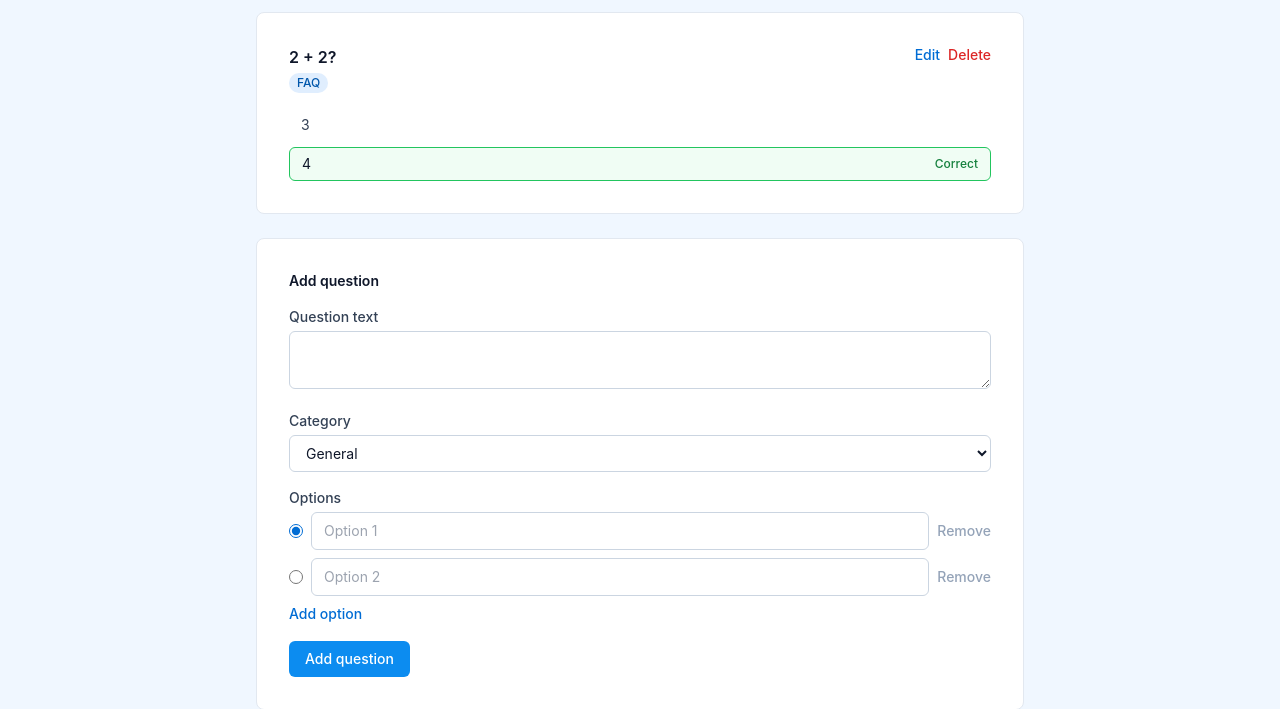
Scenario: AdminQuestions › should_add_question_with_dynamic_options_and_refresh_list
The image size is (1280, 709).
(page scrolled)
Step 1. Type "Largest ocean?" into the text box labelled "Question text" → (640, 360), box [289,331,991,389]
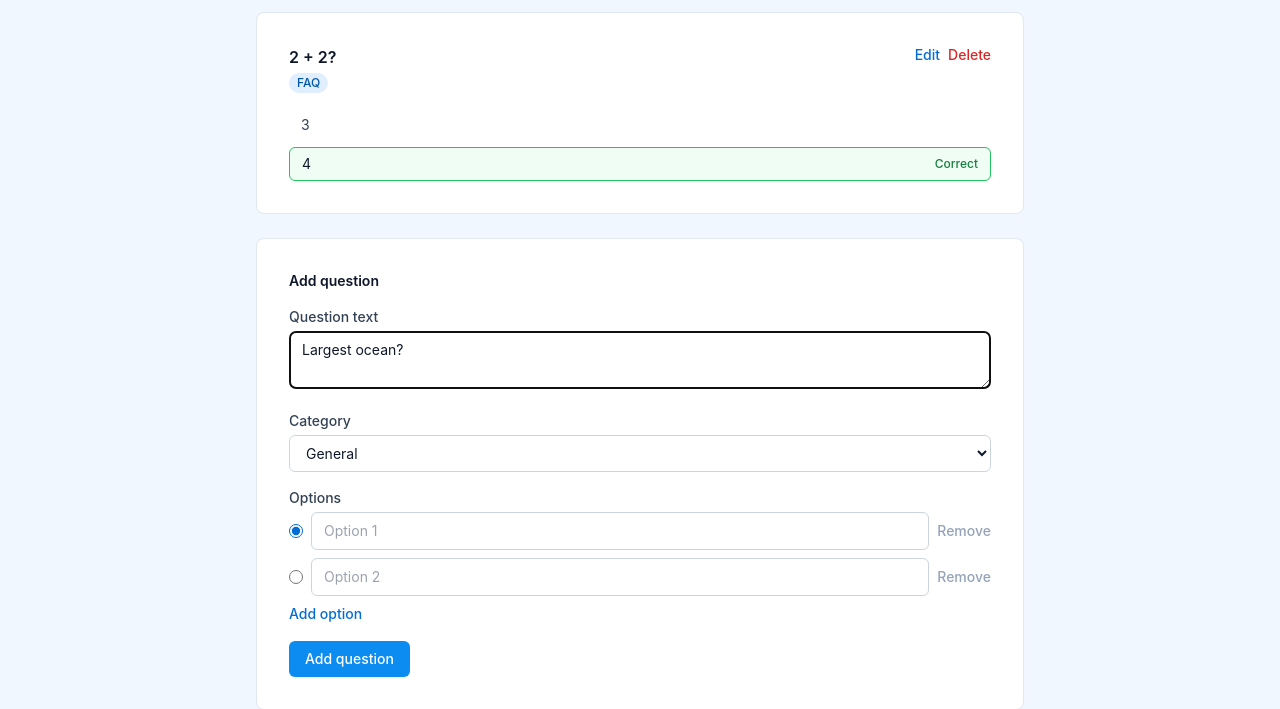
Step 2. Type "Pacific" into the field with placeholder "Option 1" → (620, 531), box [311,512,929,550]
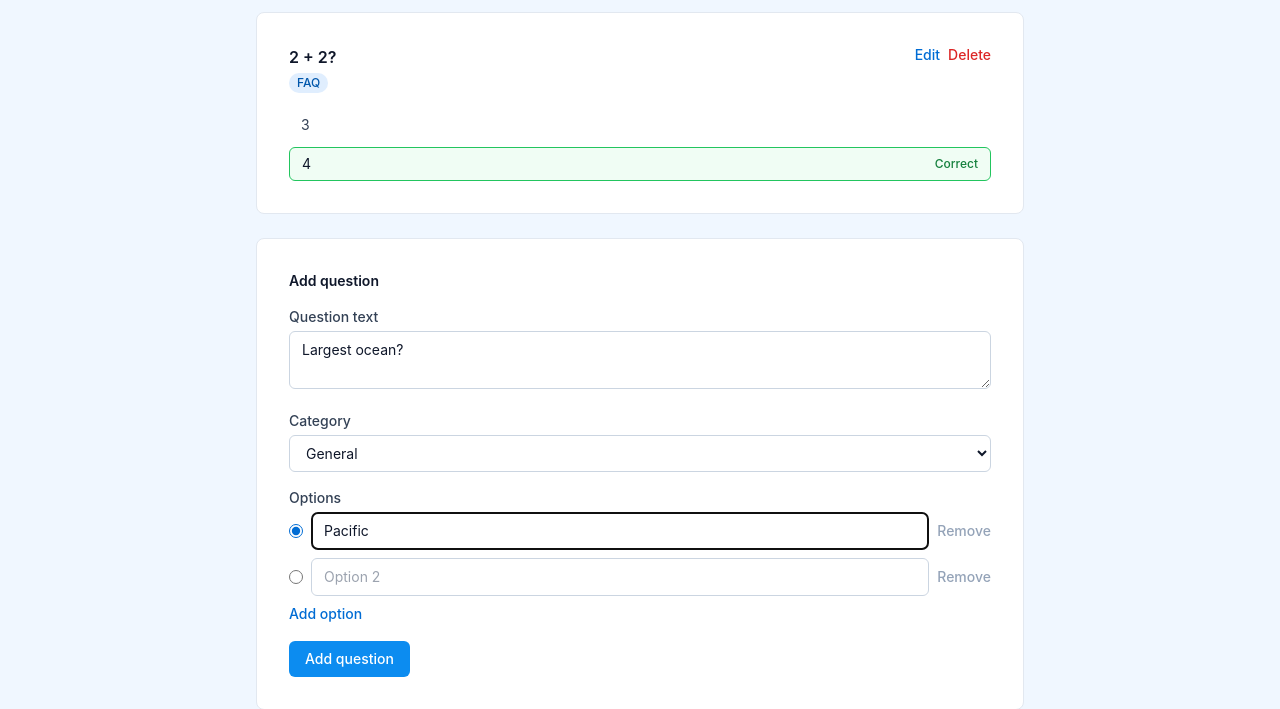
Step 3. Type "Atlantic" into the field with placeholder "Option 2" → (620, 577), box [311,558,929,596]
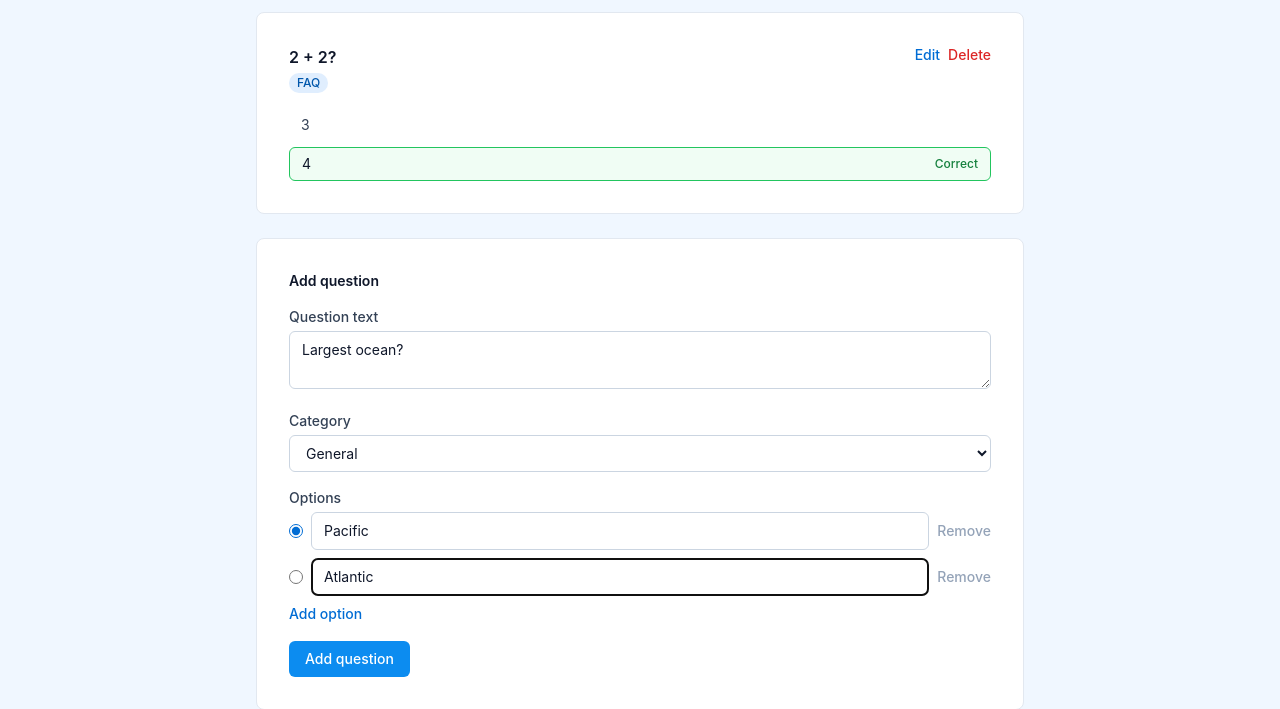
Step 4. Click the radio button named "Correct option 1" → click(296, 531), box [289,523,303,539]
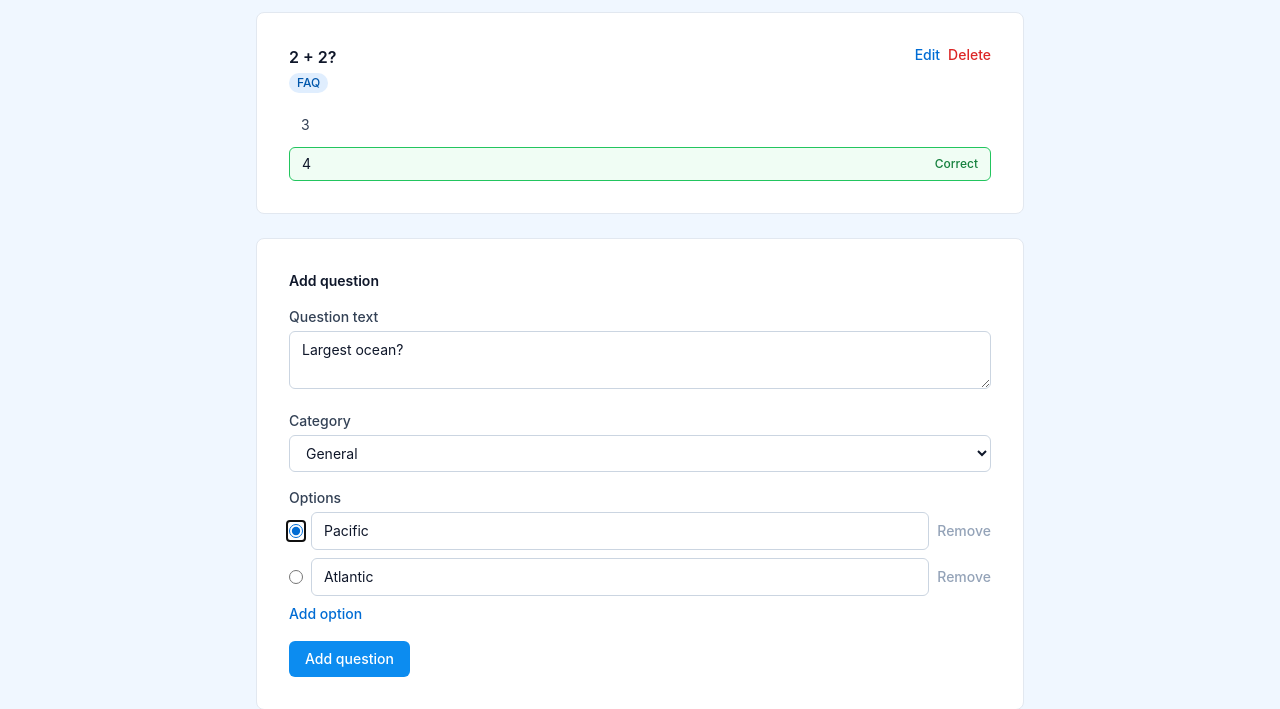
Step 5. Click the button "Add question" → click(349, 659), box [289,641,410,677]
(page scrolled)
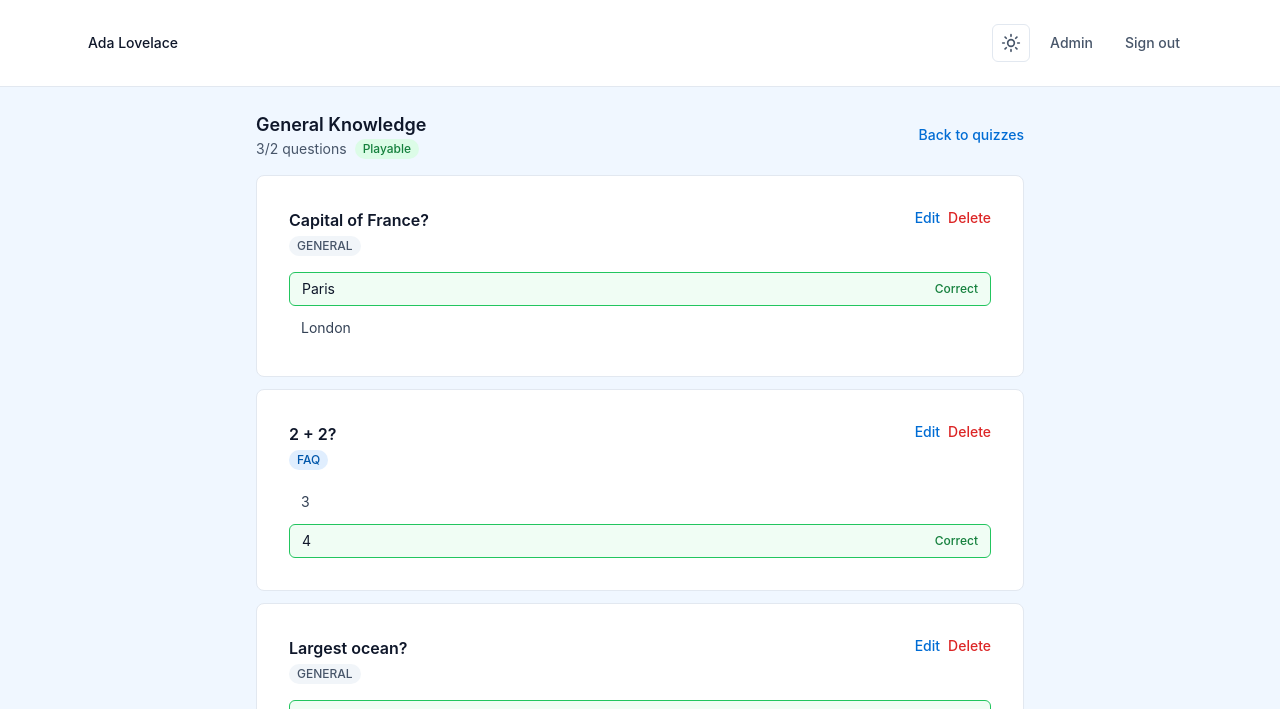
Expected: the text "Pacific" does not show "Correct"
Expected: the text "Largest ocean?" is shown, [289,636,408,660]
Expected: the text "3/2 questions" is shown, [256,139,347,159]
